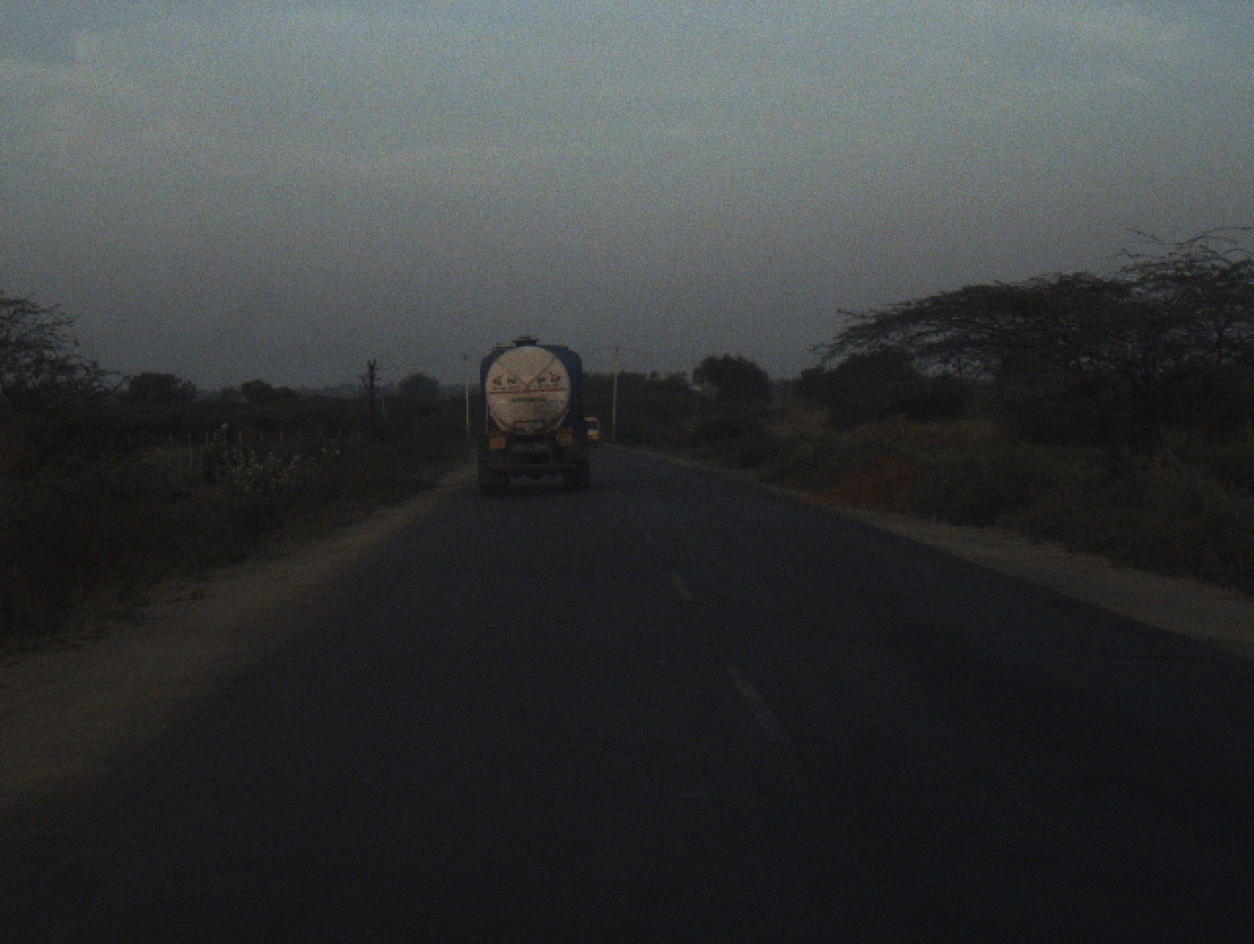autorickshaw: (587, 415, 600, 446)
truck: (467, 334, 598, 500)
